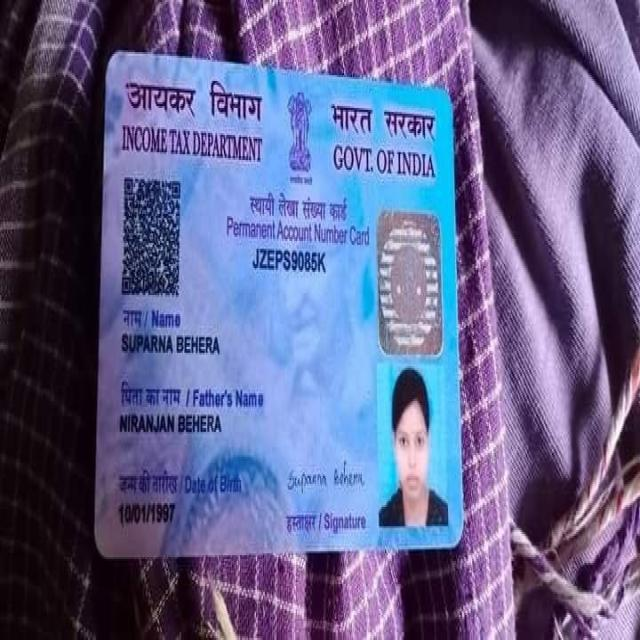pan_card: (97, 48, 463, 551)
